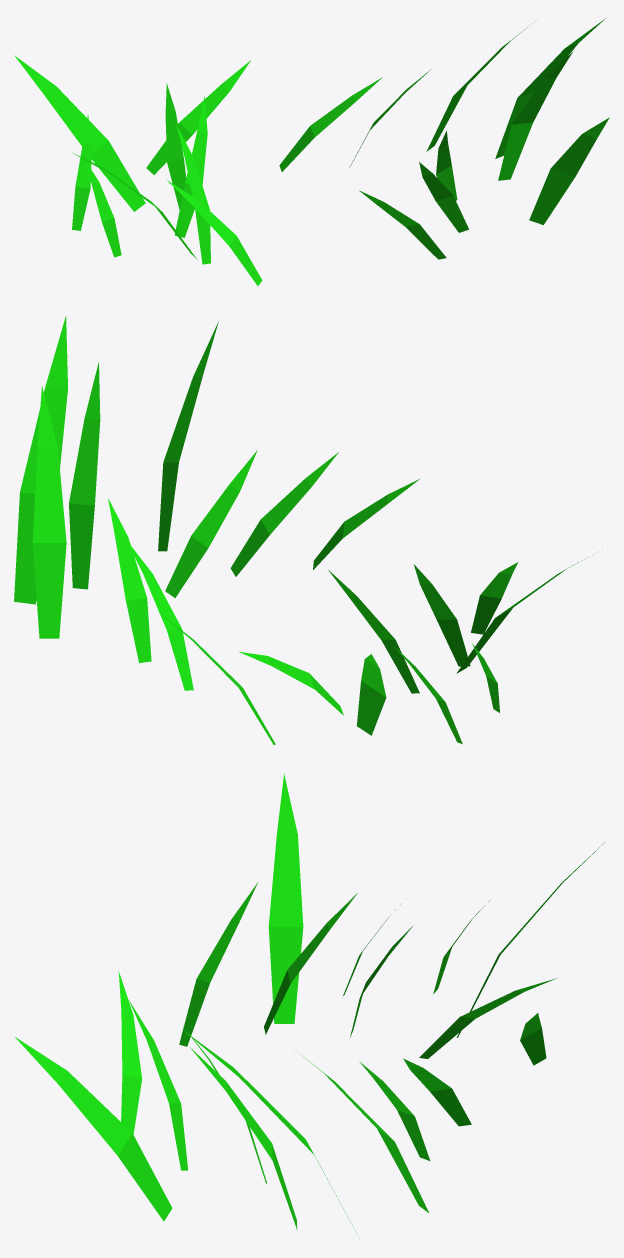
File: trees_12.fbx
3 renders of one model, top to bottom at view 1: azimuth 30°, elevation 25°; view 2: azimuth 150°, elevation 25°; view 3: azimuth 270°, elevation 25°, orthographic. The views are drawn at different scales.
Parts seen in each view (by area): view 1: Plane.003; view 2: Plane.003; view 3: Plane.003.
Part boxes in pixels (left/top/right/bottom): Plane.003: left=14, top=18, right=609, bottom=285; Plane.003: left=14, top=316, right=602, bottom=744; Plane.003: left=15, top=773, right=604, bottom=1234.
Size of the model in its own units: 1.79 by 0.6394 by 1.46.
